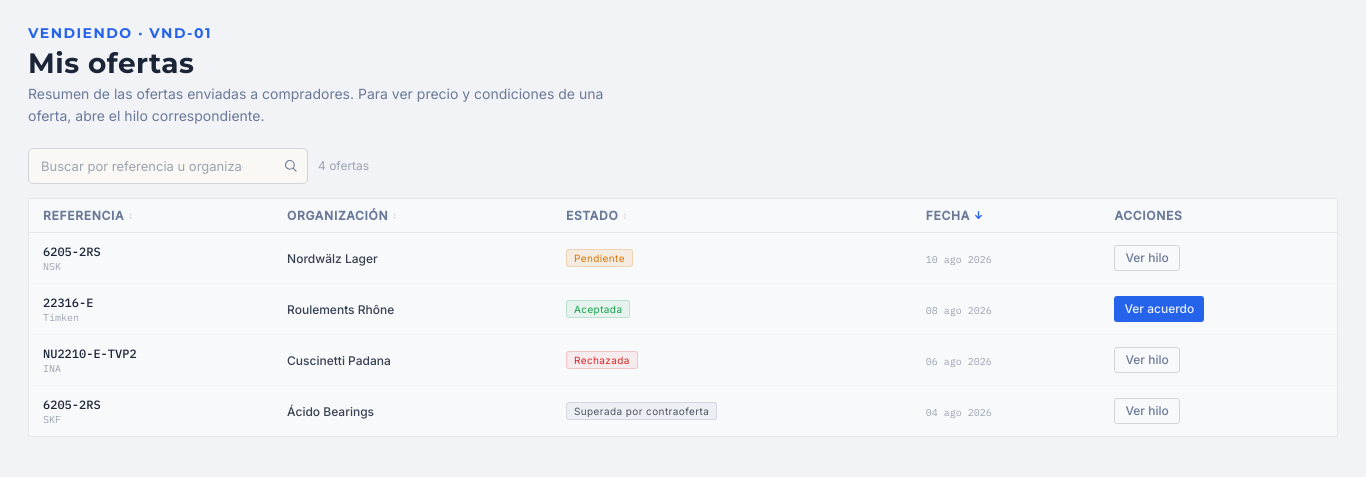
Scenario: la búsqueda · §4 y CA-VND-02 › ANCLA · filtra por referencia al confirmar con Enter (estándar F-172: teclear no filtra)
Check: the number of rows with test id "sent-offer-row" is 4, box [29,232,1337,283]; [29,283,1337,334]; [29,334,1337,385]; [29,385,1337,436]
Type "22316" into the search field with placeholder "Buscar por referencia u organización…" at x=168, y=166, box [28,148,308,184]
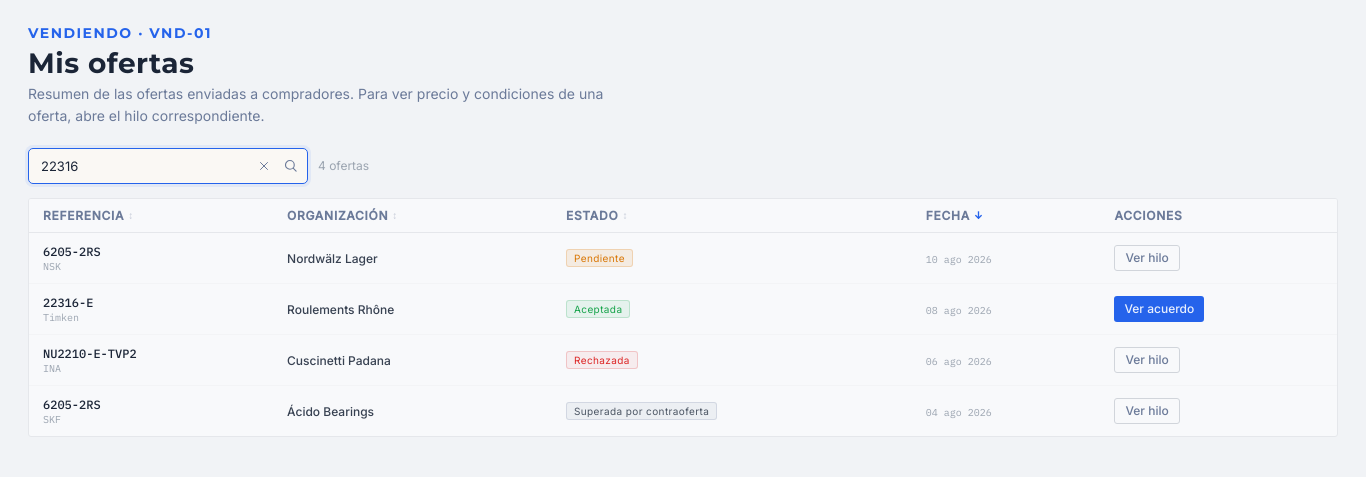
Check: the number of rows with test id "sent-offer-row" is 4, box [29,232,1337,283]; [29,283,1337,334]; [29,334,1337,385]; [29,385,1337,436]
Press Enter
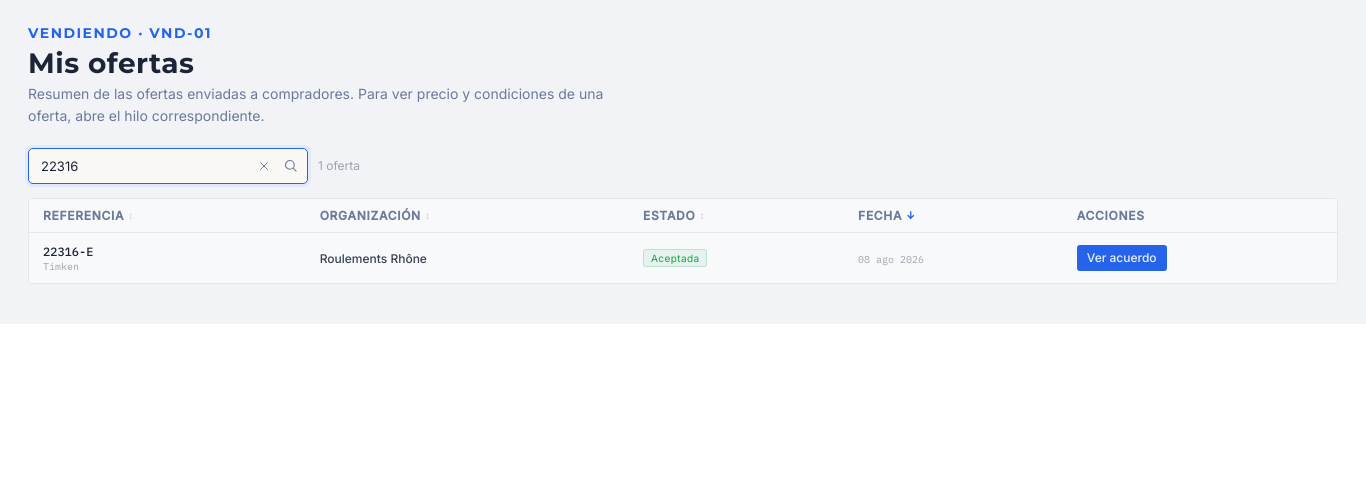
Check: the text "22316-E" is shown, box [43,244,93,259]
Check: the number of rows with test id "sent-offer-row" is 1, box [29,232,1337,283]
